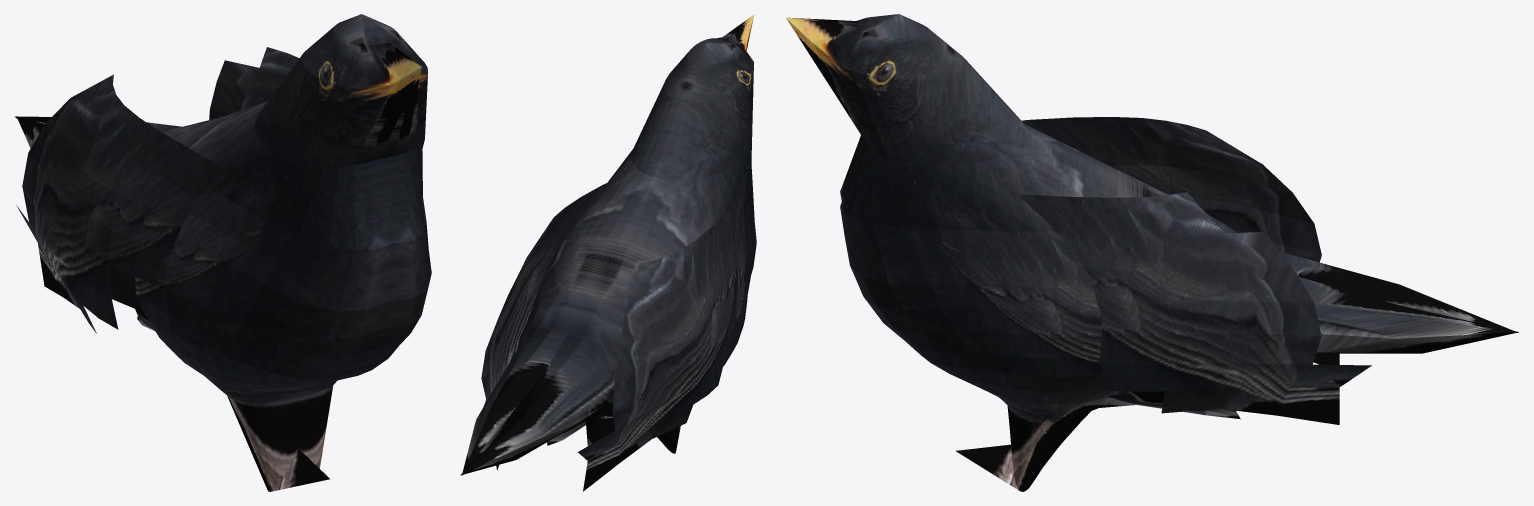
The model's file is BlackBird 1.fbx.
3 views of the same model, side by side, from view 1: azimuth 30°, elevation 25°; view 2: azimuth 150°, elevation 25°; view 3: azimuth 270°, elevation 25° (orthographic). The views are drawn at different scales.
Visible parts, largest first — view 1: Sphere.003, Sphere.004; view 2: Sphere.003, Sphere.004; view 3: Sphere.003, Sphere.004.
Boxes of the visible parts, box(x1,y1,x2,y2) form: Sphere.003: box(14, 14, 431, 491); Sphere.004: box(16, 47, 299, 333); Sphere.003: box(460, 14, 756, 475); Sphere.004: box(481, 182, 738, 491); Sphere.003: box(786, 14, 1518, 491); Sphere.004: box(1018, 117, 1371, 424).
Bounding box in the file's own units: 72.22 × 135 × 192.
